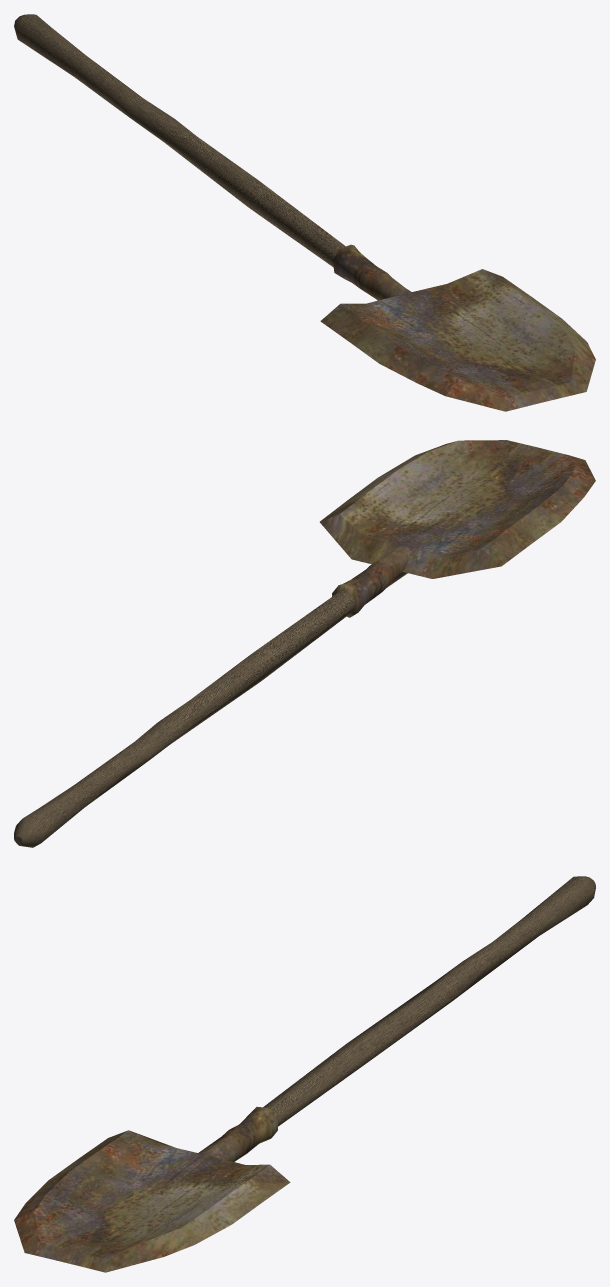
Rendered from Shovel.FBX.
3 views of the same model, one above another, from view 1: azimuth 30°, elevation 25°; view 2: azimuth 150°, elevation 25°; view 3: azimuth 330°, elevation 25° (orthographic).
Parts seen in each view (by area): view 1: Box015, Loft006; view 2: Box015, Loft006; view 3: Box015, Loft006.
Part boxes in pixels (x1,y1,x2,y2): Box015: (320,244,595,411); Loft006: (14,14,446,328); Box015: (320,440,595,617); Loft006: (14,519,449,847); Box015: (14,1106,290,1272); Loft006: (160,876,595,1188).
Bounding box in the file's own units: 147 × 30.23 × 730.
Materials: 2 (2 with a texture image).
